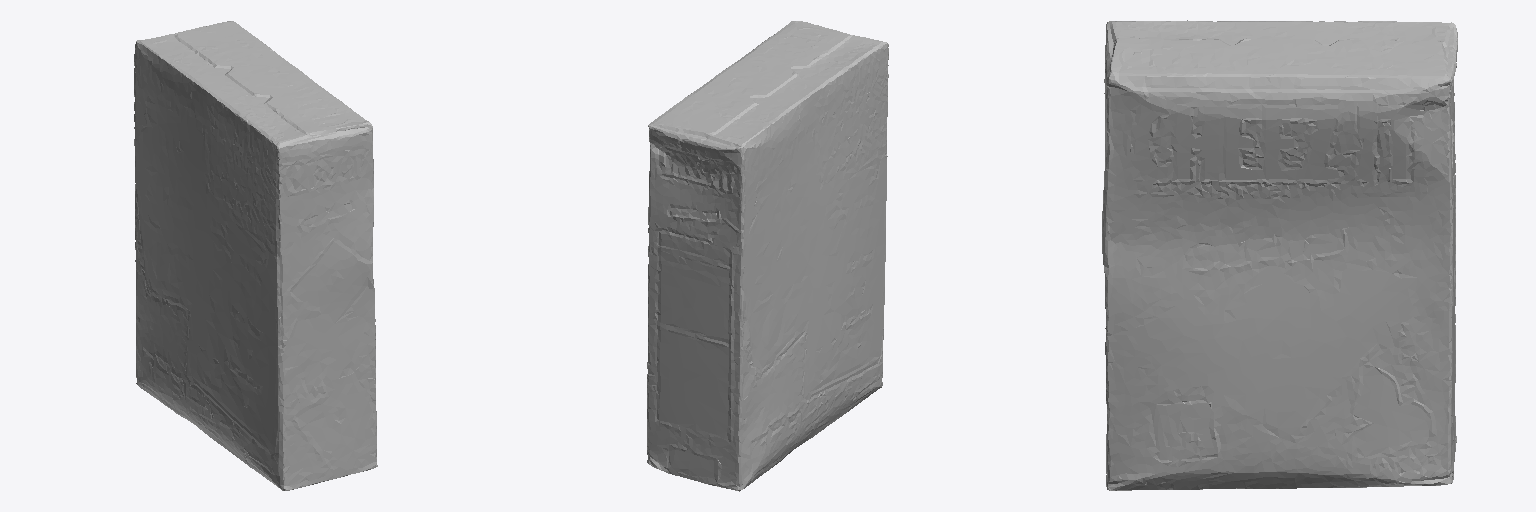
The robot description file, URDF, robot "root":
<?xml version="1.0"?>
<robot name="root">
  <link name="base_link">
    <visual>
      <origin xyz="0 0 0" rpy="0 0 0" />
      <geometry>
        <mesh filename="../meshes/003_cracker_box.stl" scale="1.0000E+00 1.0000E+00 1.0000E+00" />
      </geometry>
      <material name="">
        <color rgba="7.50E-01 7.50E-01 7.50E-01 1" />
      </material>
    </visual>
    <collision>
      <origin xyz="0 0 0" rpy="0 0 0" />
      <geometry>
        <mesh filename="../meshes/003_cracker_box.stl" scale="1.0000E+00 1.0000E+00 1.0000E+00" />
      </geometry>
    </collision>
  </link>
</robot>

--- Render facts (derived) ---
The picture shows the robot from 3 angles, left to right: view 1: azimuth 30°, elevation 25°; view 2: azimuth 150°, elevation 25°; view 3: azimuth 270°, elevation 25°; orthographic projection.
Model root with 1 links and 0 joints (none), rooted at base_link, posed all joints at 0.
Visible links, largest first — view 1: base_link; view 2: base_link; view 3: base_link.
Boxes of the visible links, bbox=[...] form: base_link: bbox=[134, 21, 377, 490]; base_link: bbox=[647, 21, 888, 491]; base_link: bbox=[1102, 20, 1457, 490].
Size in the robot's own frame: 0.0718 by 0.164 by 0.2134 metres.
Meshes: 1 distinct files referenced, 1 mesh visuals loaded (1 binary STL).
